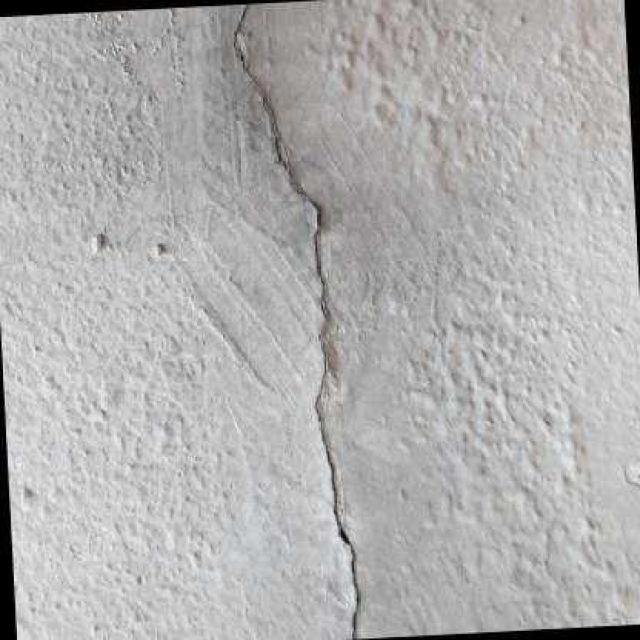D00: (235, 3, 361, 639)
